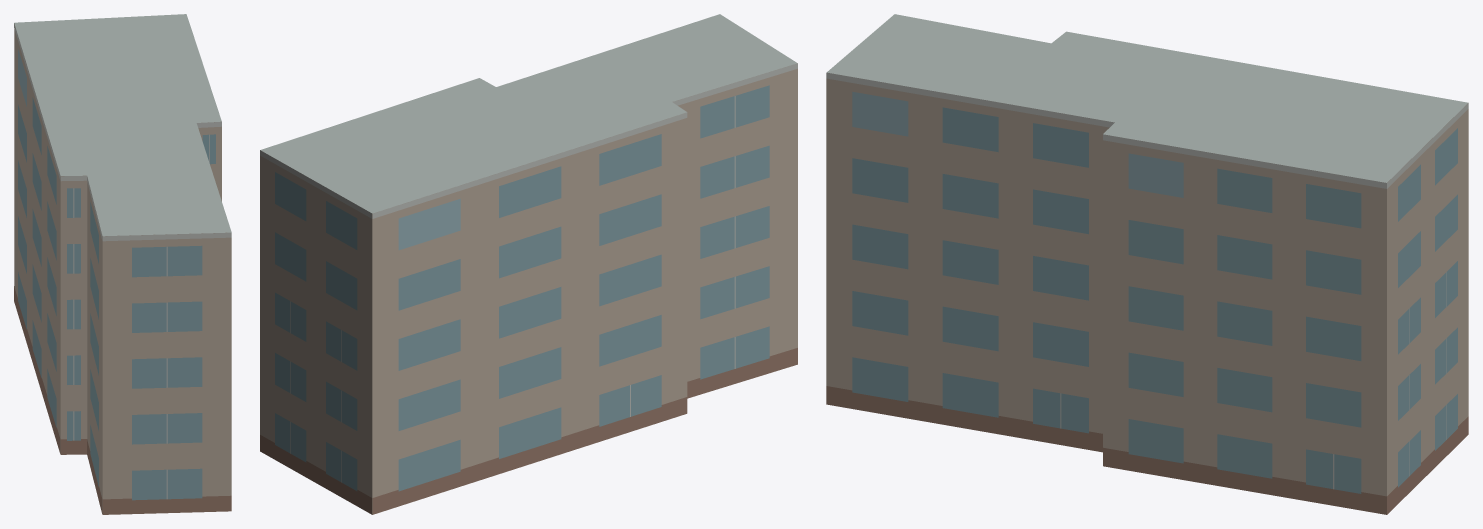
The model's file is survey-upis-32564735.glb.
3 renders of one model, left to right at view 1: azimuth 30°, elevation 25°; view 2: azimuth 150°, elevation 25°; view 3: azimuth 270°, elevation 25°, orthographic. The views are drawn at different scales.
Parts seen in each view (by area): view 1: survey-upis-32564735.tmp; view 2: survey-upis-32564735.tmp; view 3: survey-upis-32564735.tmp.
Part boxes in pixels (x1,y1,x2,y2): survey-upis-32564735.tmp: (14, 14, 231, 514); survey-upis-32564735.tmp: (260, 14, 797, 514); survey-upis-32564735.tmp: (826, 14, 1468, 514).
Bounding box in the file's own units: 14.75 × 13.5 × 23.68.
